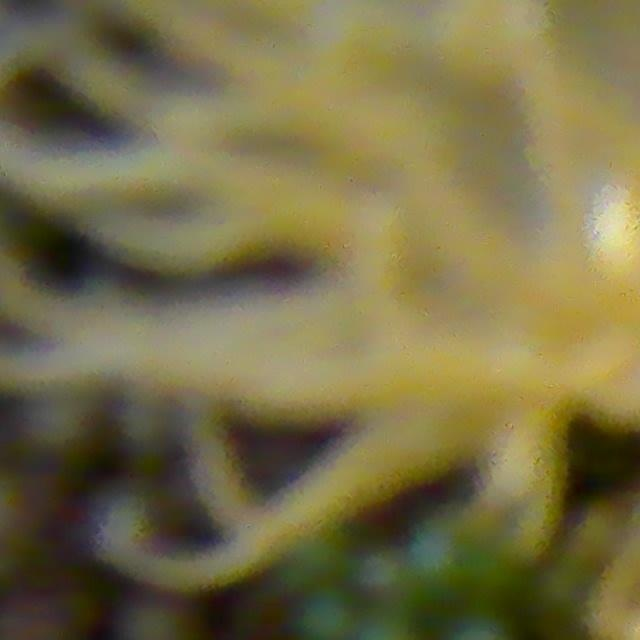SeaGrape: (77, 480, 166, 575), (405, 518, 475, 593), (292, 586, 359, 640)
